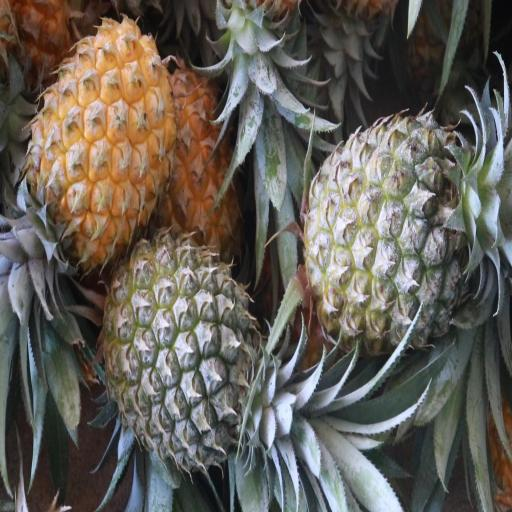Pineapple - v8 v1: (31, 17, 178, 262), (164, 70, 244, 260)
